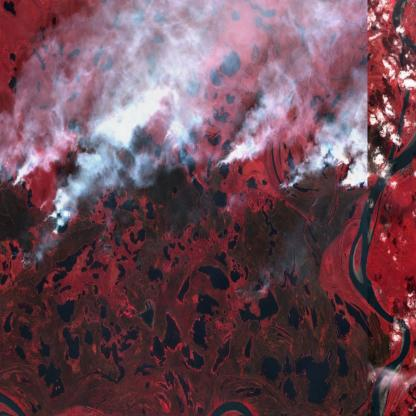fire: (0, 96, 368, 284)
